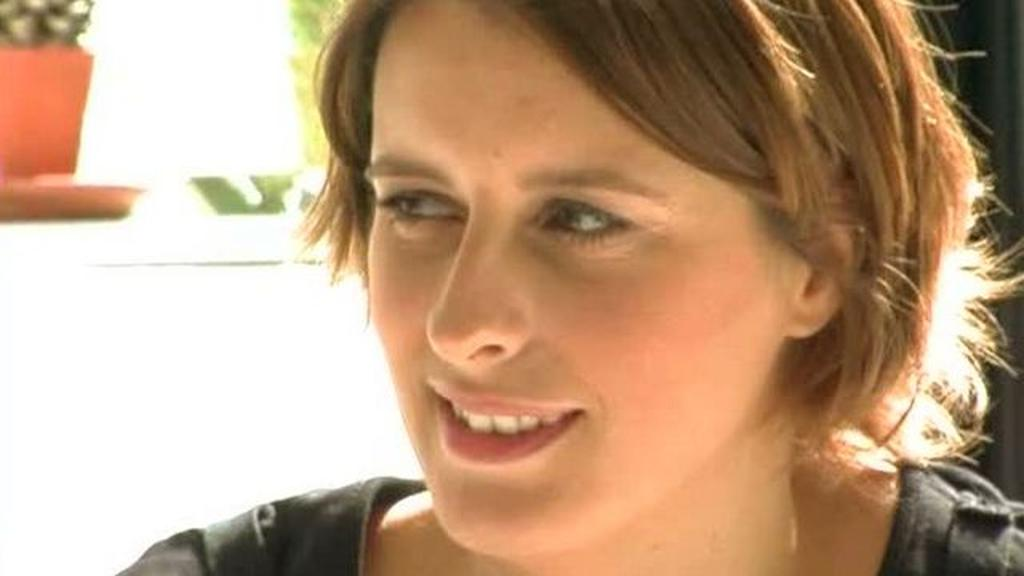face: (370, 14, 794, 550)
